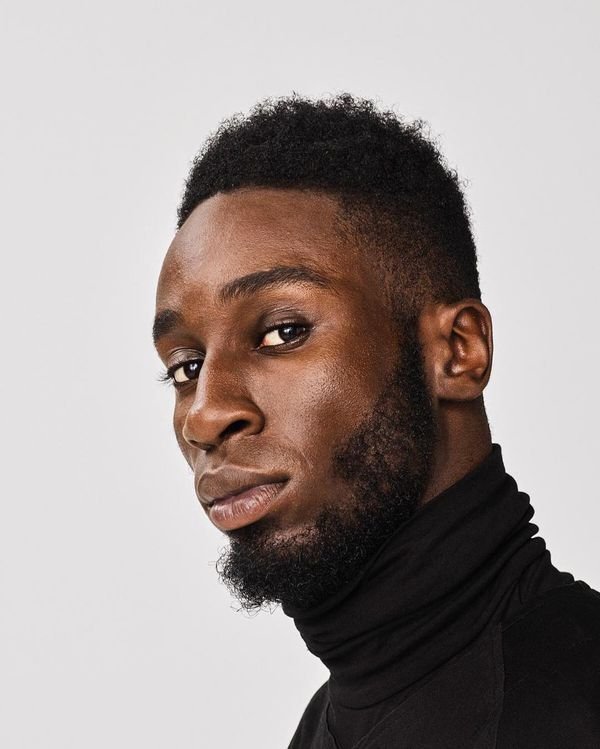bare: (172, 376, 402, 594)
